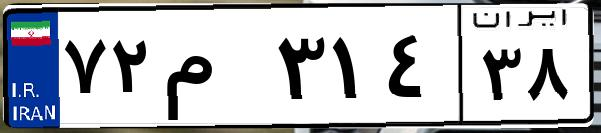1: (330, 28, 385, 110)
2: (110, 28, 158, 98)
3: (270, 28, 330, 110), (475, 38, 525, 113)
4: (385, 28, 445, 110)
7: (57, 26, 110, 100)
8: (525, 38, 570, 115)
م: (158, 20, 270, 120)
